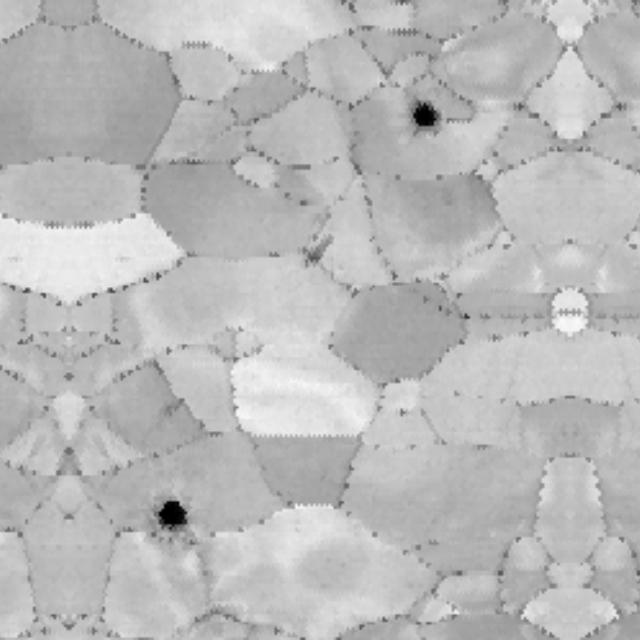good_void: (388, 100, 468, 143), (143, 484, 194, 532), (302, 234, 337, 269)
